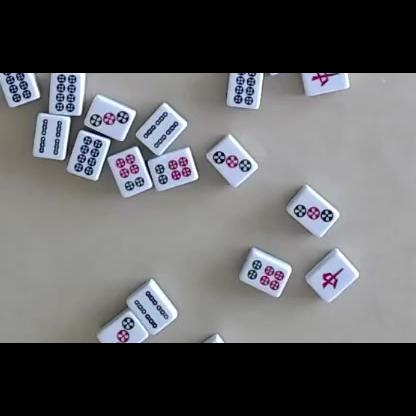3p: (212, 151, 252, 172), (294, 204, 334, 223), (89, 111, 129, 127), (111, 317, 134, 343)
4s: (134, 290, 169, 329), (143, 111, 179, 148), (39, 118, 63, 155)
6p: (115, 154, 145, 191), (248, 260, 285, 290), (155, 157, 191, 184)
7z: (321, 267, 343, 290), (310, 73, 340, 86)
8p: (74, 136, 102, 175), (2, 73, 31, 102), (55, 74, 77, 112), (233, 73, 256, 105)
